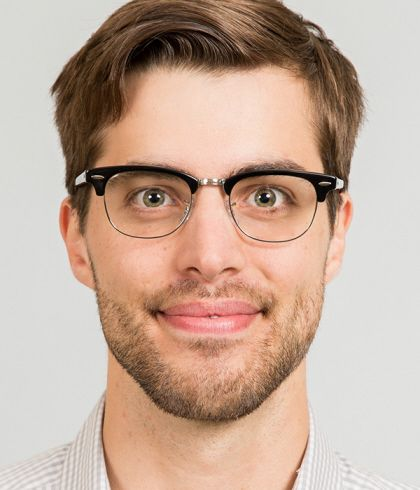llen: (230, 174, 317, 242)
rlen: (104, 170, 192, 238)
